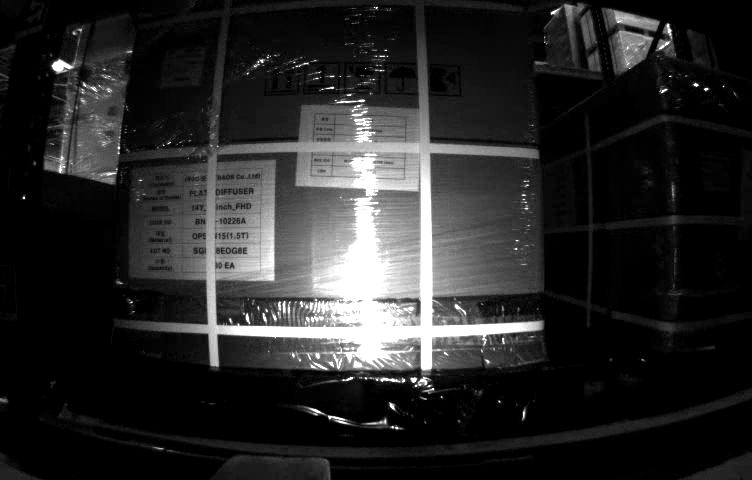True Barcode: (164, 48, 203, 87), (701, 151, 731, 192)
